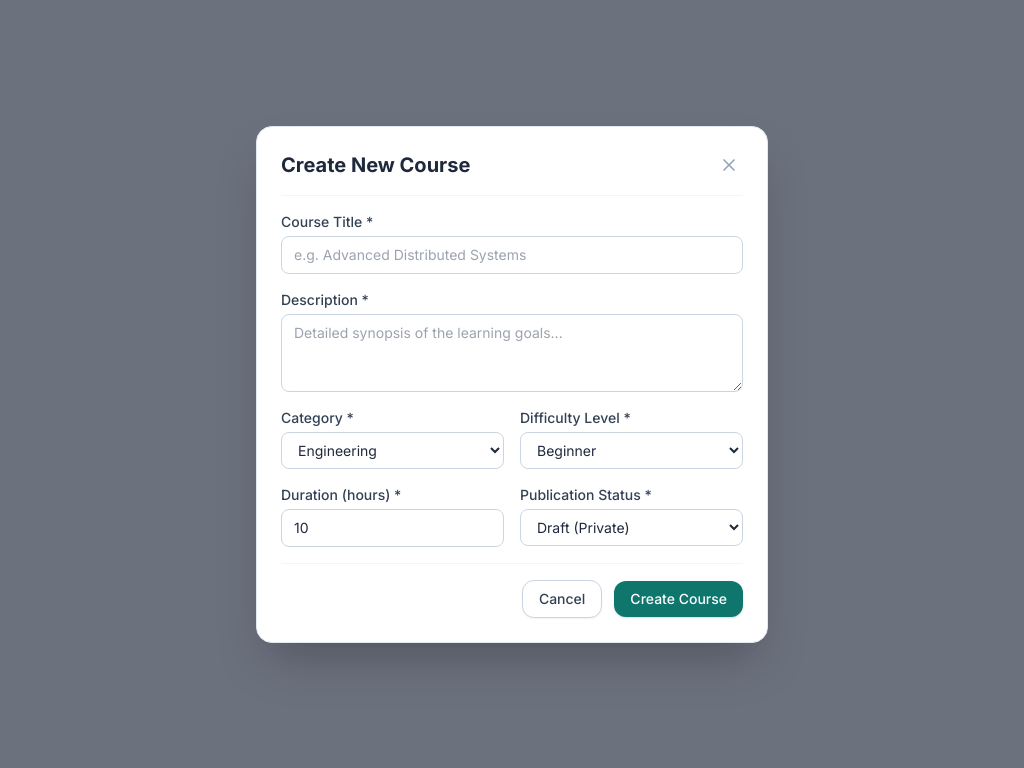
Test: Trainer Component Library › TrainerCourseModal › validates required fields on submission
Note: Attempt to submit empty form
Click the button "Create Course". click: (679, 598)
box: [614, 580, 743, 616]
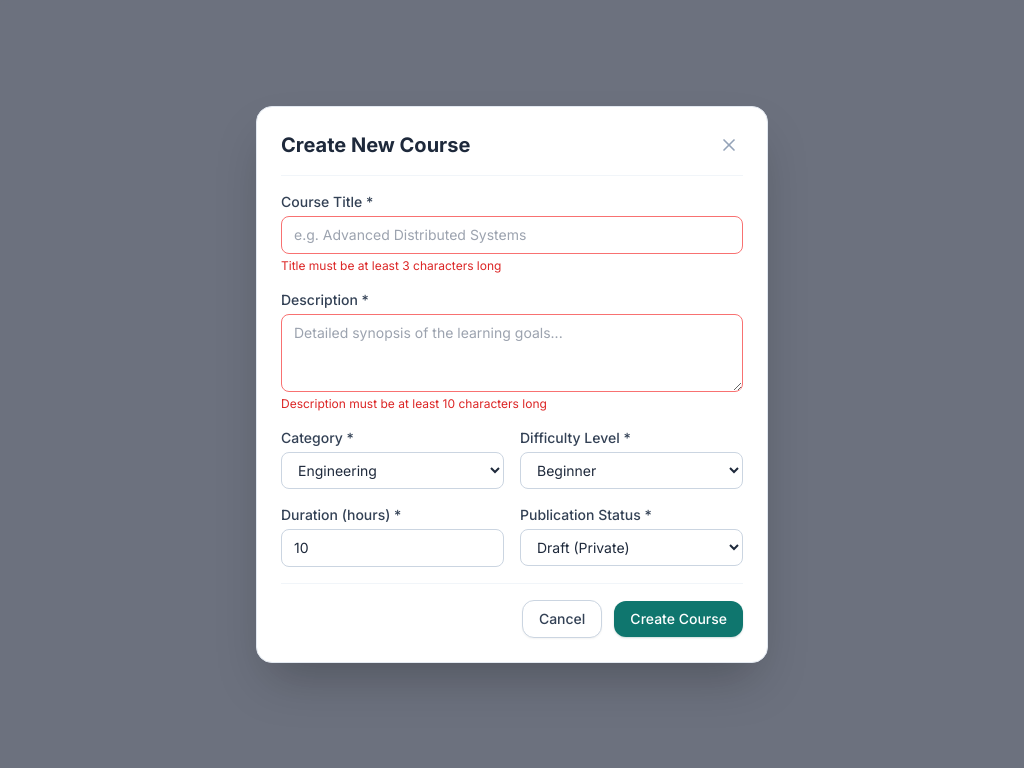
expect the text "Title must be at least 3 characters long" is shown: met, box [281, 258, 501, 272]
